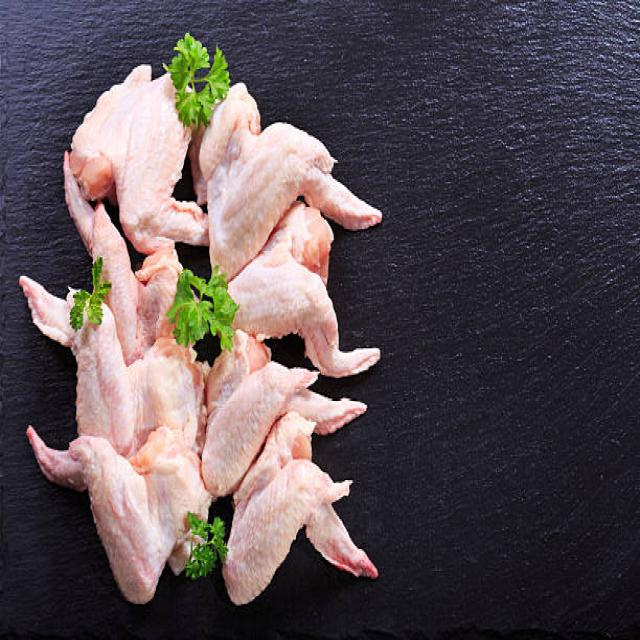Chicken Wing: (204, 88, 379, 273), (23, 421, 200, 602), (20, 278, 190, 432), (200, 332, 360, 480), (80, 56, 208, 241), (224, 454, 380, 605)
